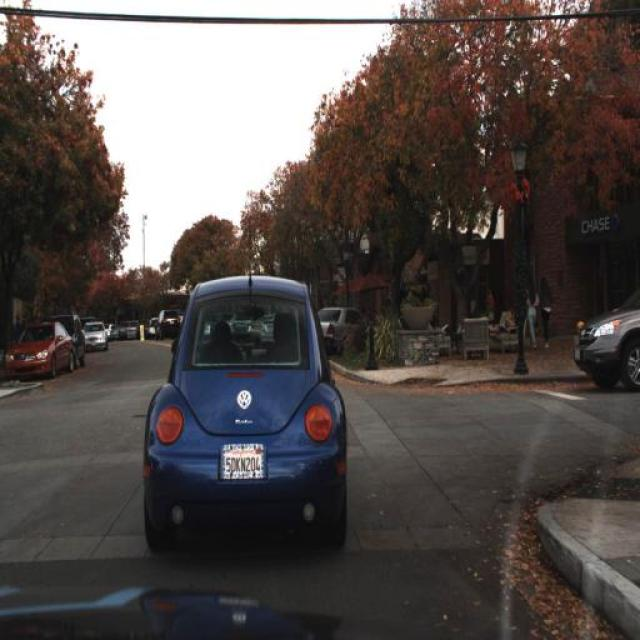car: (126, 258, 363, 584), (575, 298, 639, 389), (5, 319, 74, 380), (318, 302, 368, 353), (62, 311, 84, 371), (154, 308, 181, 346), (82, 320, 109, 356)
trafficLight: (526, 273, 540, 361), (538, 272, 554, 349), (485, 304, 516, 338), (483, 284, 496, 312)
